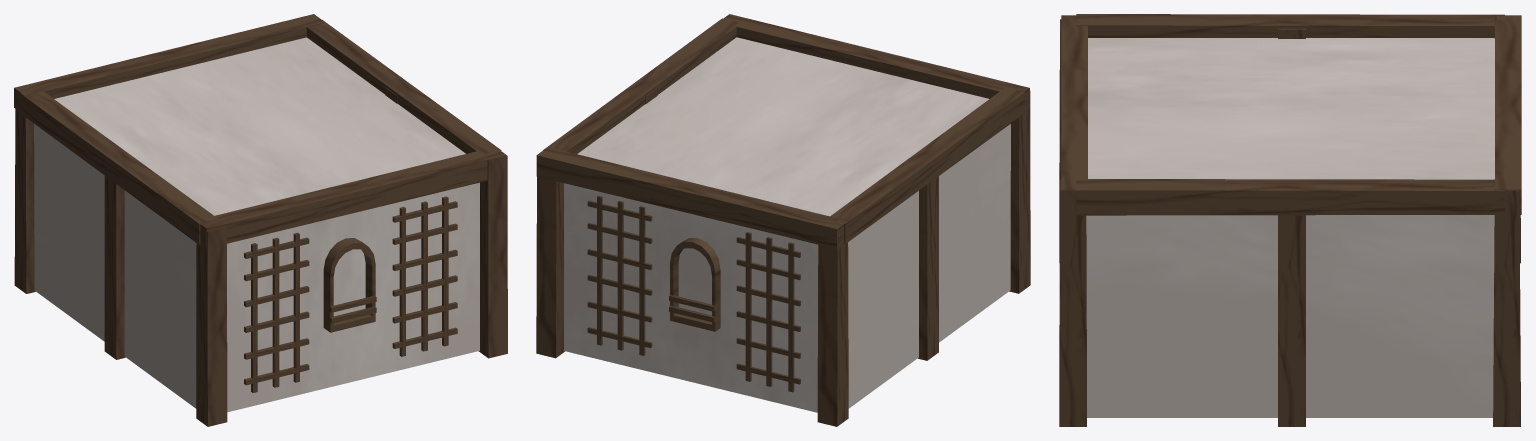
The model's file is Apartment2.fbx.
3 views of the same model, side by side, from view 1: azimuth 30°, elevation 25°; view 2: azimuth 150°, elevation 25°; view 3: azimuth 270°, elevation 25° (orthographic). The views are drawn at different scales.
Visible parts, largest first — view 1: polySurface1246; view 2: polySurface1246; view 3: polySurface1246.
Boxes of the visible parts, bbox=[...] form: polySurface1246: bbox=[14, 14, 507, 426]; polySurface1246: bbox=[536, 14, 1030, 426]; polySurface1246: bbox=[1059, 14, 1521, 426].
Size of the model in its own units: 1.21 by 0.7569 by 1.34.
